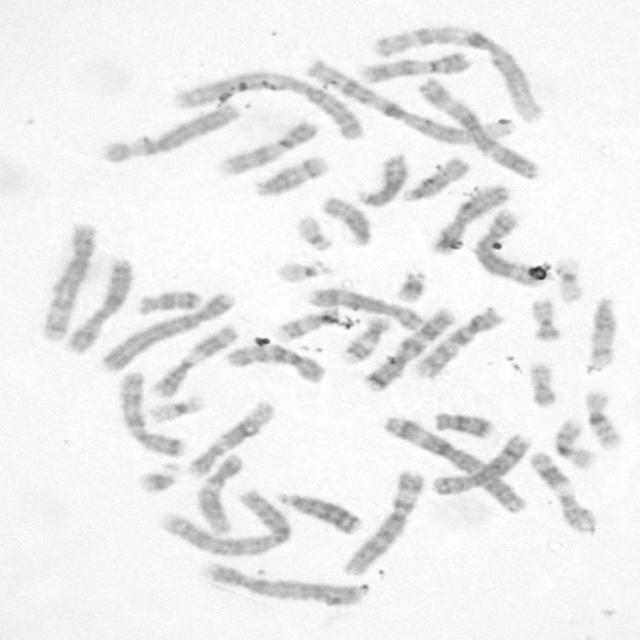A1: (302, 54, 516, 147), (366, 23, 542, 128)
A2: (170, 71, 372, 140), (157, 487, 293, 560)
A3: (410, 72, 541, 180), (381, 418, 528, 502)
B4: (101, 290, 236, 372), (206, 560, 369, 608)
B5: (38, 222, 96, 342), (473, 211, 555, 289)
C10: (414, 303, 508, 381), (221, 344, 327, 384)
C11: (147, 322, 240, 400), (526, 448, 601, 535)
C12: (182, 398, 279, 478), (195, 454, 245, 537)
C6: (94, 101, 246, 163), (341, 469, 426, 576)
C7: (356, 305, 456, 394), (112, 372, 189, 462)
C8: (427, 429, 529, 500), (304, 285, 426, 333)
C9: (214, 119, 320, 180), (358, 50, 472, 86)
D13: (269, 489, 365, 538), (354, 151, 409, 209)
D14: (253, 158, 329, 196), (585, 293, 619, 371)
D15: (399, 157, 472, 205), (319, 197, 374, 246)
E16: (575, 386, 624, 451), (553, 418, 599, 472)
E17: (269, 306, 350, 342), (341, 318, 389, 362)
E18: (428, 410, 496, 440), (136, 289, 204, 315)
F19: (145, 392, 206, 427), (551, 253, 585, 305)
F20: (523, 361, 558, 408), (527, 299, 561, 342)
G21: (132, 460, 182, 497), (388, 265, 430, 306)
G22: (290, 214, 334, 253), (274, 259, 330, 284)
X: (63, 258, 133, 354), (428, 182, 510, 254)
